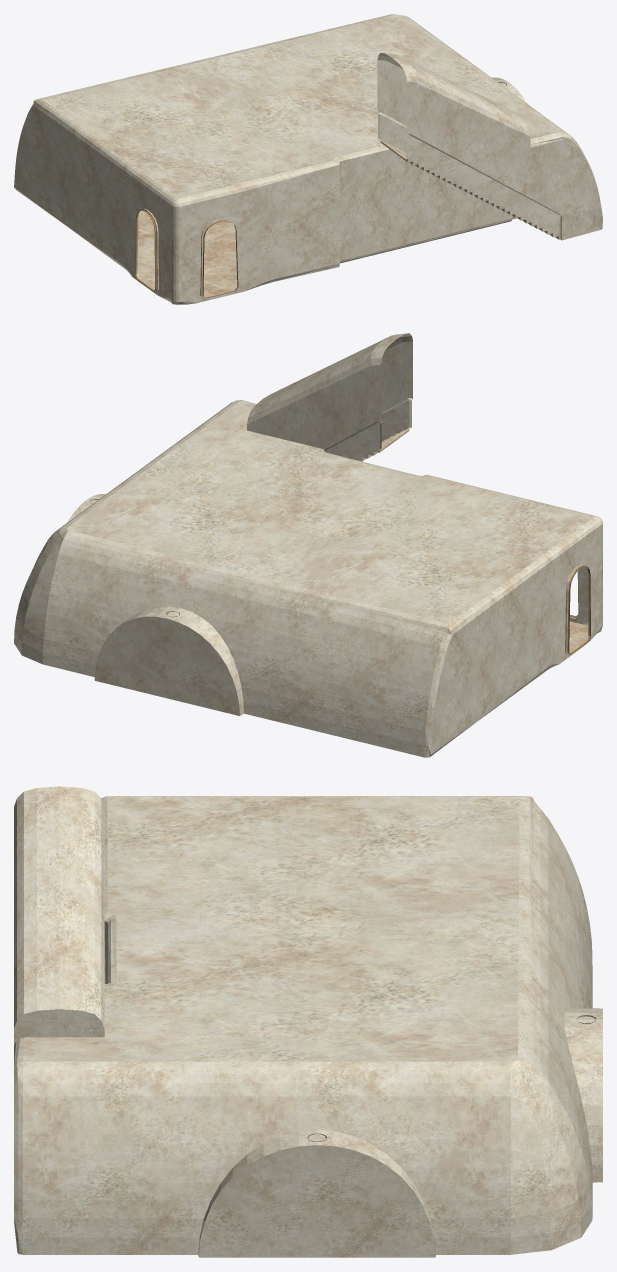
Rendered from ply_tato_house_lg_s01_fp1_r10_livingroom_mesh_livingroom.fbx.
3 renders of one model, top to bottom at view 1: azimuth 30°, elevation 25°; view 2: azimuth 150°, elevation 25°; view 3: azimuth 270°, elevation 25°, orthographic. The views are drawn at different scales.
Visible parts, largest first — view 1: mesh_node; view 2: mesh_node; view 3: mesh_node.
Part boxes in pixels (left/top/right/bottom): mesh_node: left=14, top=14, right=602, bottom=304; mesh_node: left=14, top=333, right=602, bottom=757; mesh_node: left=14, top=786, right=602, bottom=1257.
Bounding box in the file's own units: 16.37 × 8 × 13.32.
